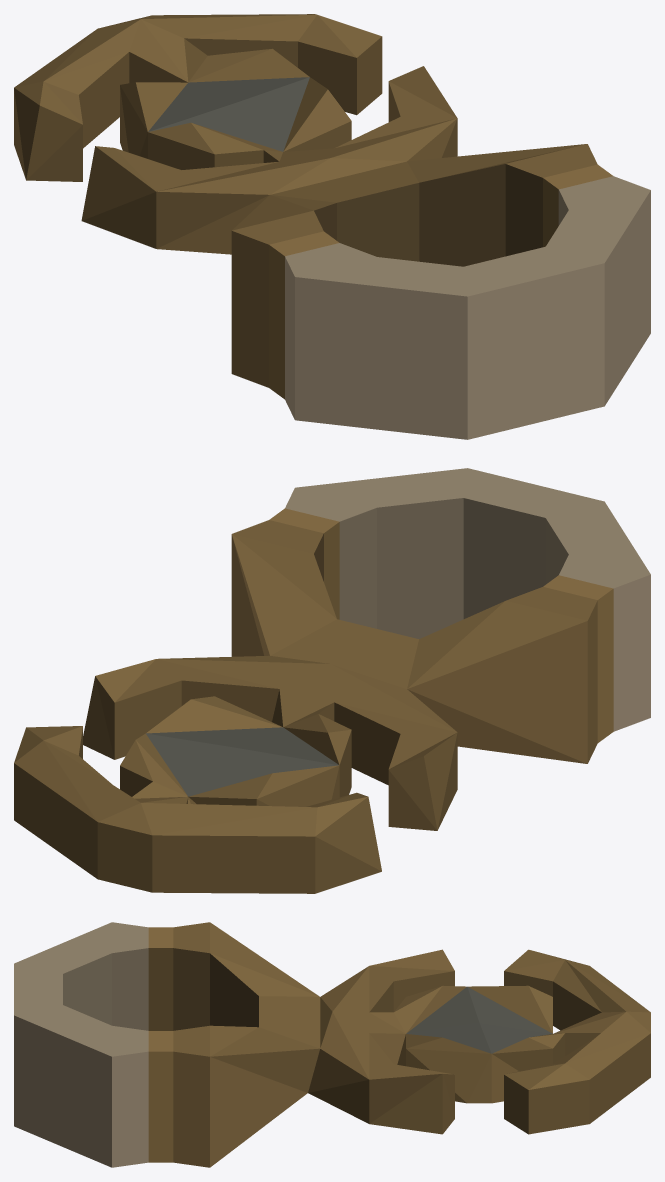
File: ring-of-the-elements.gltf
The picture shows the model from 3 angles, top to bottom: view 1: azimuth 30°, elevation 25°; view 2: azimuth 150°, elevation 25°; view 3: azimuth 270°, elevation 25°; orthographic projection. The views are drawn at different scales.
Size of the model in its own units: 26 by 10 by 52.
1 material, 1 textured.
